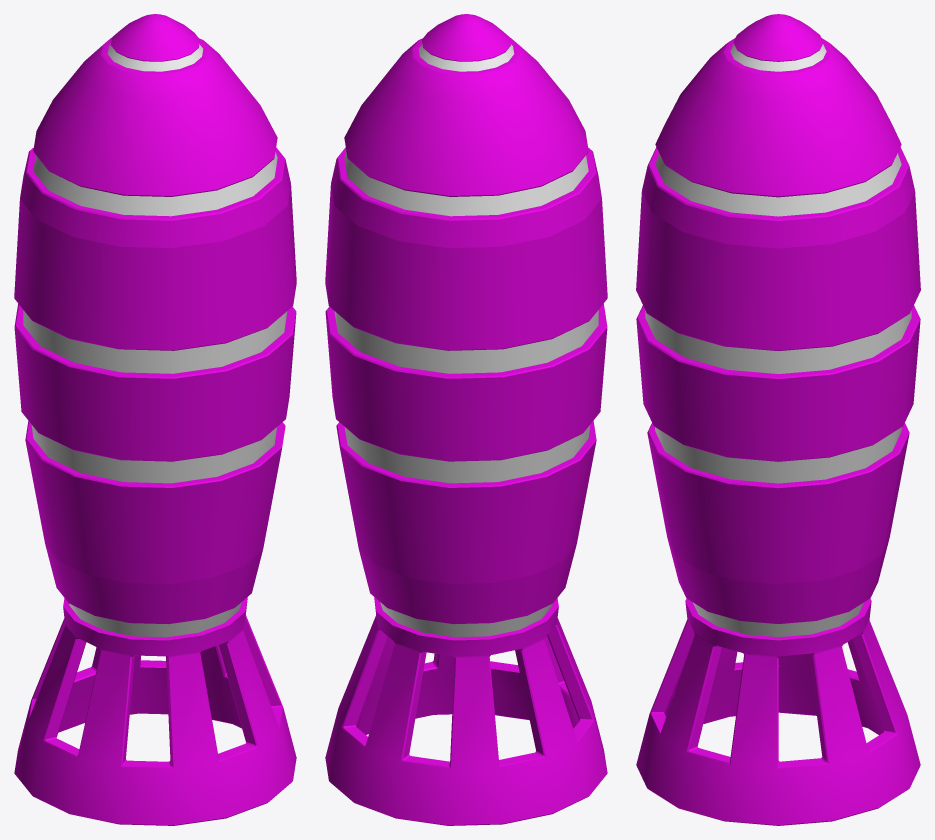
Rendered from Bomb_5.fbx.
The picture shows the model from 3 angles, left to right: view 1: azimuth 30°, elevation 25°; view 2: azimuth 150°, elevation 25°; view 3: azimuth 270°, elevation 25°; orthographic projection.
Visible parts, largest first — view 1: Body_Lv5, Motor_Lv5, Head_Lv5; view 2: Body_Lv5, Motor_Lv5, Head_Lv5; view 3: Body_Lv5, Motor_Lv5, Head_Lv5.
Boxes of the visible parts, x1=… form: Body_Lv5: x1=14, y1=185, x2=296, y2=583; Motor_Lv5: x1=14, y1=544, x2=296, y2=825; Head_Lv5: x1=20, y1=14, x2=290, y2=248; Body_Lv5: x1=325, y1=185, x2=607, y2=583; Motor_Lv5: x1=325, y1=544, x2=607, y2=825; Head_Lv5: x1=331, y1=14, x2=601, y2=248; Body_Lv5: x1=636, y1=191, x2=920, y2=584; Motor_Lv5: x1=636, y1=538, x2=920, y2=825; Head_Lv5: x1=642, y1=14, x2=914, y2=248.
Size of the model in its own units: 2.23 by 6.5 by 2.23.
